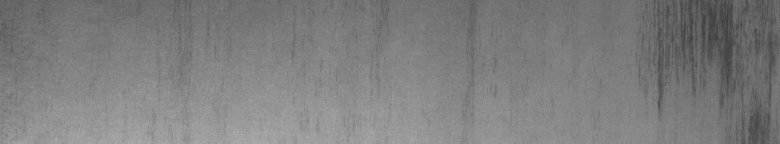ka: (652, 4, 776, 136)
